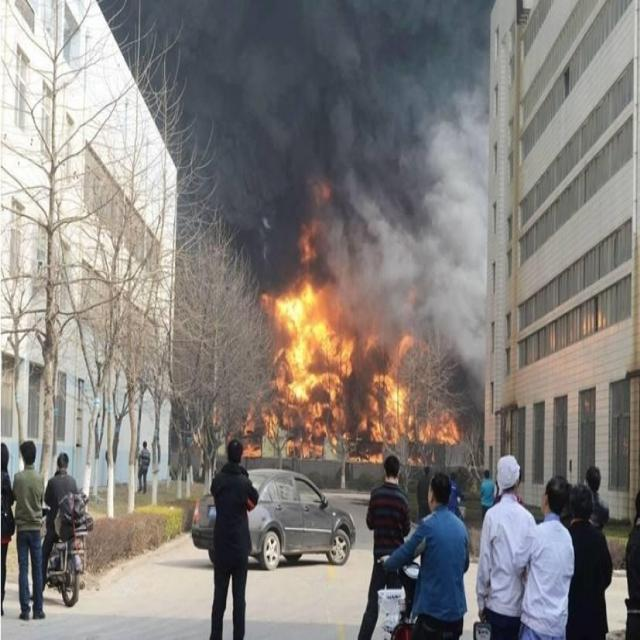Fire: (242, 281, 460, 468)
Smoke: (175, 1, 489, 288)
